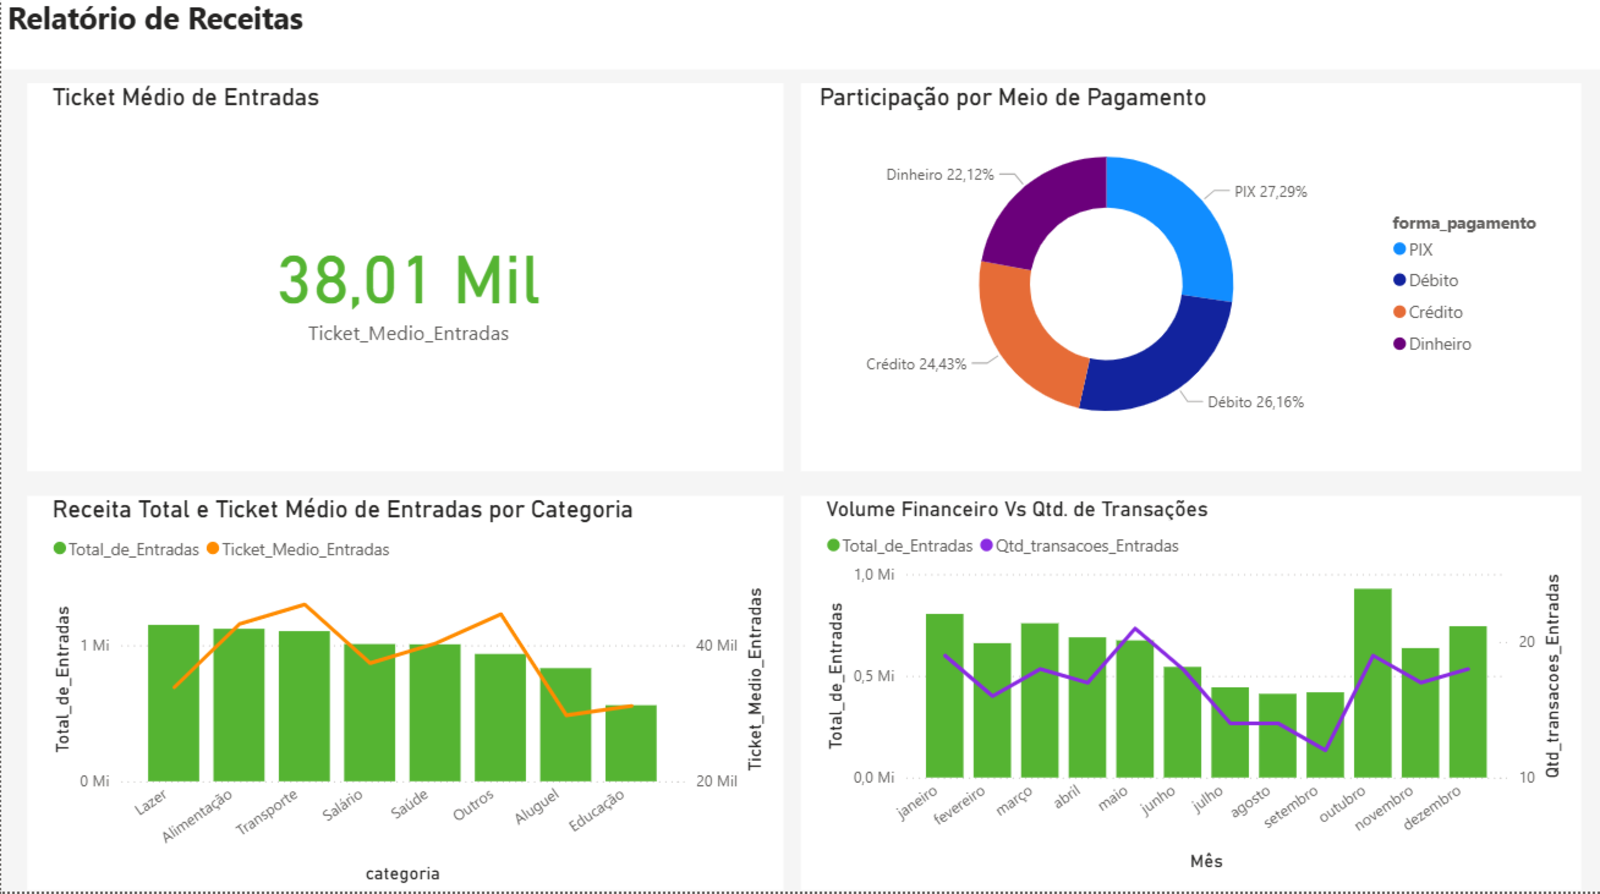

The dashboard page shown, as its layout file describes it:
{"tool":"powerbi","page":{"name":"Relatório de Receitas","canvas":[1280,720],"ordinal":2},"visuals":[{"type":"donutChart","title":"Participação por Meio de Pagamento","fields":{"Category":["mini_projeto_financeiro_Clean.forma_pagamento"],"Y":["mini_projeto_financeiro_Clean.Total_de_Entradas"]},"box":[640,73,624,310],"z":0},{"type":"lineClusteredColumnComboChart","title":"Receita Total e Ticket Médio de Entradas por Categoria","fields":{"Category":["mini_projeto_financeiro_Clean.categoria"],"Y":["mini_projeto_financeiro_Clean.Total_de_Entradas"],"Y2":["mini_projeto_financeiro_Clean.Ticket_Medio_Entradas"]},"box":[21,403,605,315],"z":1000},{"type":"card","title":"Ticket Médio de Entradas","fields":{"Values":["mini_projeto_financeiro_Clean.Ticket_Medio_Entradas"]},"box":[21,73,605,310],"z":2000},{"type":"lineClusteredColumnComboChart","title":"Volume Financeiro Vs Qtd. de Transações","fields":{"Category":["Calendario.Date.Variation.Hierarquia de datas.Mês"],"Y":["mini_projeto_financeiro_Clean.Total_de_Entradas"],"Y2":["mini_projeto_financeiro_Clean.Qtd_transacoes_Entradas"]},"box":[640,403,624,315],"z":3000},{"type":"textbox","box":[0,0,1279,62],"z":4000}]}

Visuals, with their boxes in screenshot pixels (x1, y1, x2, y2), scaled from the page's 1280x720 canvas onto the 1600x894 screenshot:
"Participação por Meio de Pagamento" donutChart: 800,91,1580,476
"Receita Total e Ticket Médio de Entradas por Categoria" lineClusteredColumnComboChart: 26,500,782,892
"Ticket Médio de Entradas" card: 26,91,782,476
"Volume Financeiro Vs Qtd. de Transações" lineClusteredColumnComboChart: 800,500,1580,892
textbox: 0,0,1599,77
